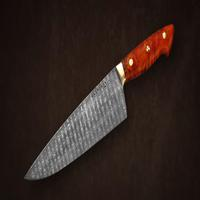knife: (23, 27, 172, 183)
